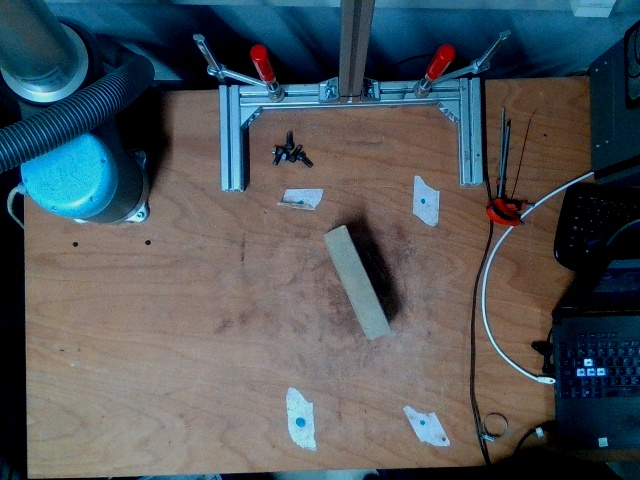brick-side: (323, 228, 389, 338)
